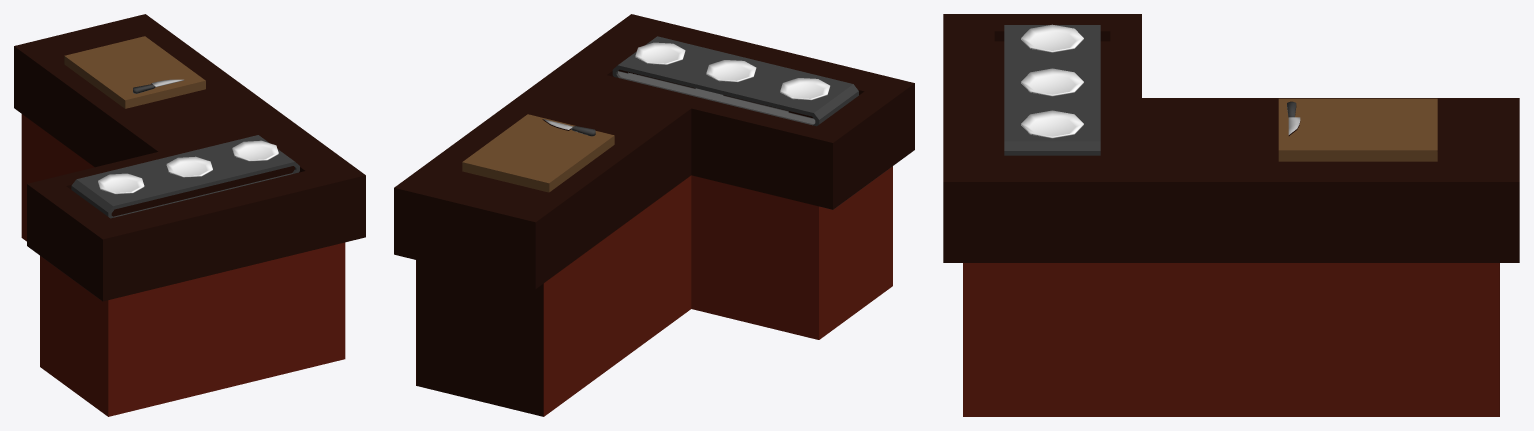
Rendered from sushi lv1.glb.
3 views of the same model, side by side, from view 1: azimuth 30°, elevation 25°; view 2: azimuth 150°, elevation 25°; view 3: azimuth 270°, elevation 25° (orthographic). The views are drawn at different scales.
Parts seen in each view (by area): view 1: Cube.001; view 2: Cube.001; view 3: Cube.001.
Part boxes in pixels (box(x1,y1,x2,y2)): Cube.001: box(14, 14, 365, 416); Cube.001: box(394, 14, 914, 416); Cube.001: box(943, 14, 1519, 416).
Size of the model in its own units: 1.34 by 0.9671 by 1.94.
Materials: 1 (1 with a texture image).
